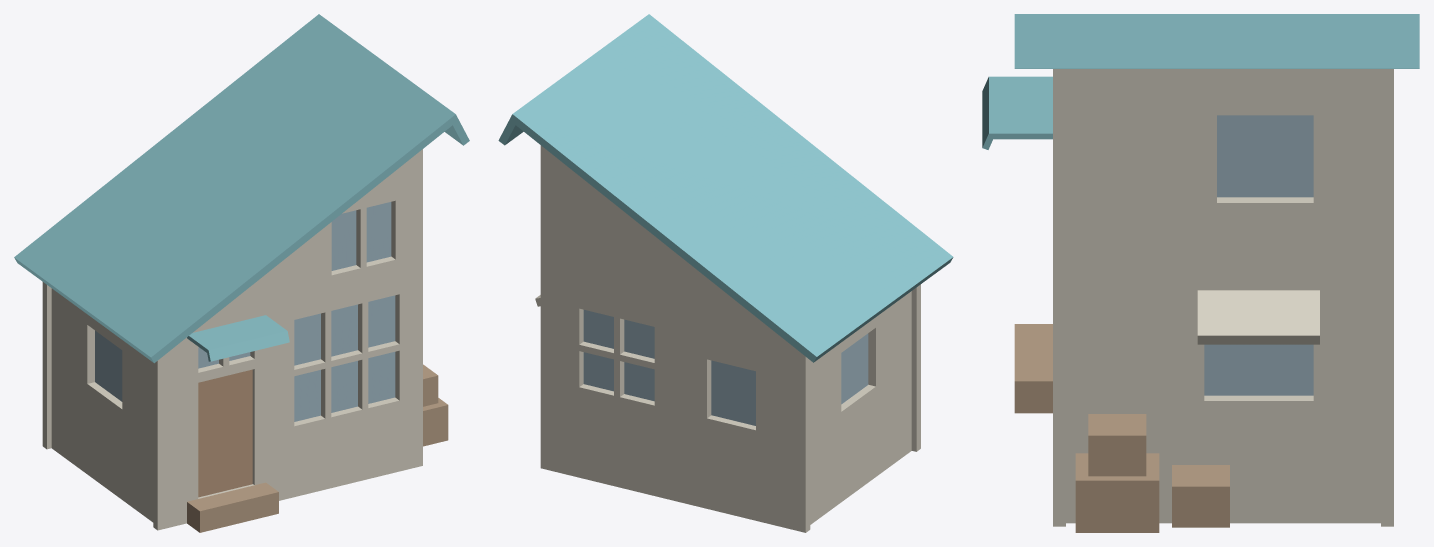
Rendered from folded_skillion.glb.
3 renders of one model, left to right at view 1: azimuth 30°, elevation 25°; view 2: azimuth 150°, elevation 25°; view 3: azimuth 270°, elevation 25°, orthographic. The views are drawn at different scales.
Visible parts, largest first — view 1: folded_skillion; view 2: folded_skillion; view 3: folded_skillion.
Part boxes in pixels (box(x1,y1,x2,y2)): folded_skillion: box(14, 14, 469, 532); folded_skillion: box(498, 14, 953, 532); folded_skillion: box(982, 14, 1419, 532).
Size of the model in its own units: 1.69 by 1.81 by 1.36.
